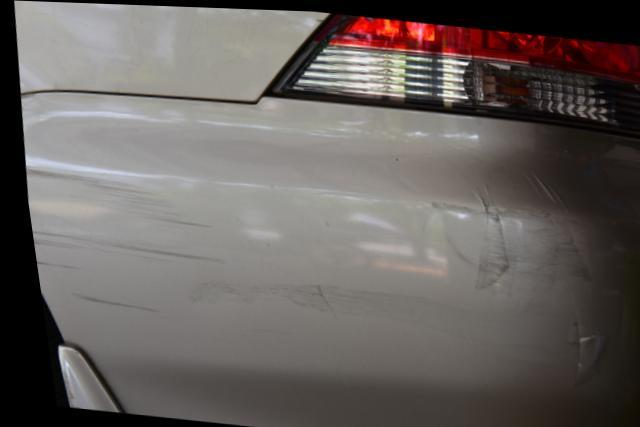scratch: (263, 167, 592, 326), (21, 167, 235, 324)
